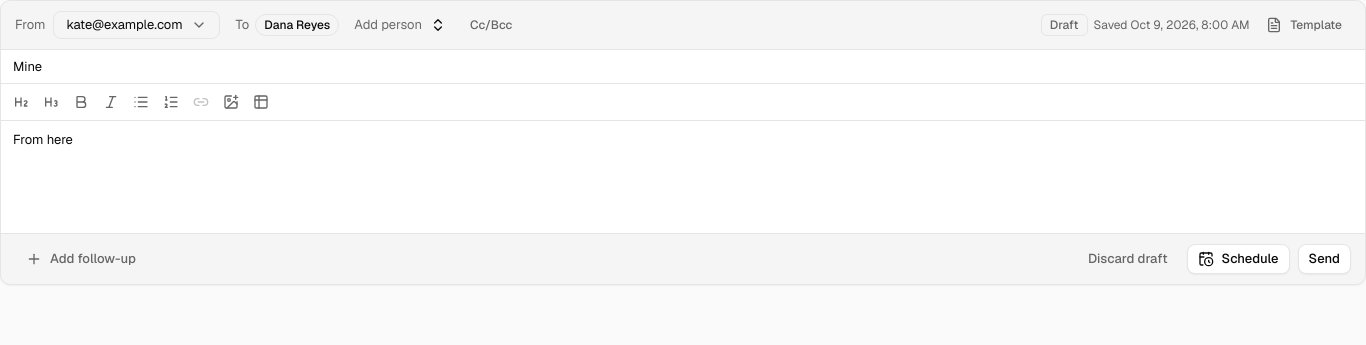
Test: drafts: saved as you write, on leaving, and put back › “Load that version” puts the other tab’s draft in the composer
Type " and more" into the field named "Message" at (43, 140), box [13,131,73,148]
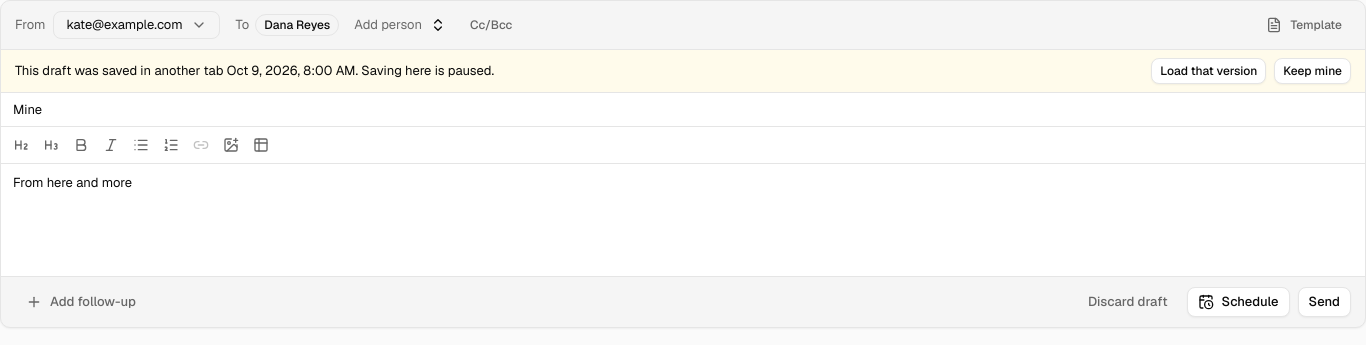
Click the button "Load that version" at (1209, 71), box [1151,58,1266,84]
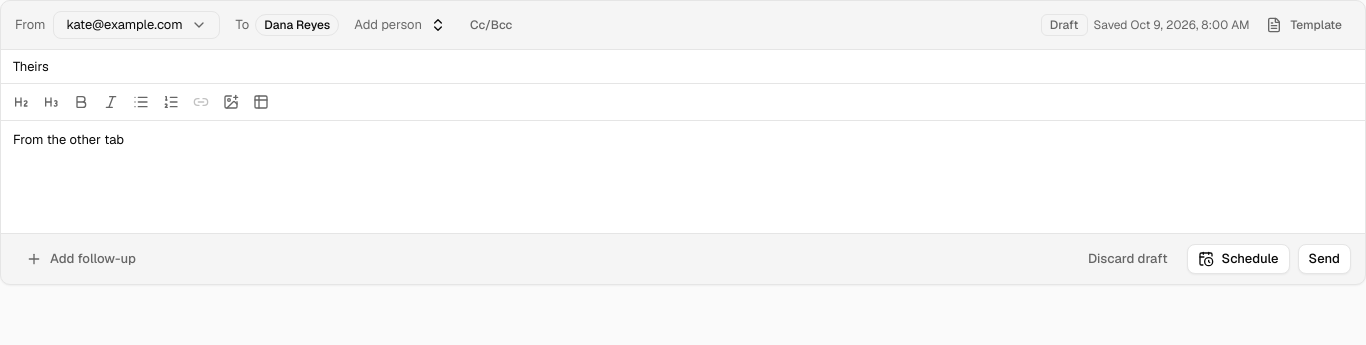
expect the field named "Subject" reads "Theirs": met, box [13,58,49,75]
expect the field named "Message" reads "From the other tab": met, box [13,131,124,148]
